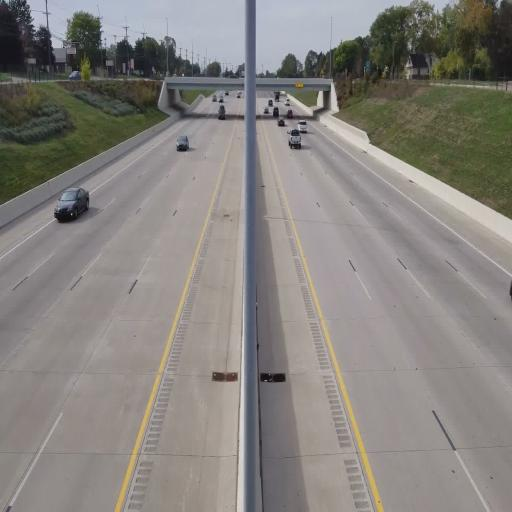Car: (54, 186, 90, 222), (288, 128, 301, 148), (176, 136, 189, 150), (298, 120, 308, 134)
